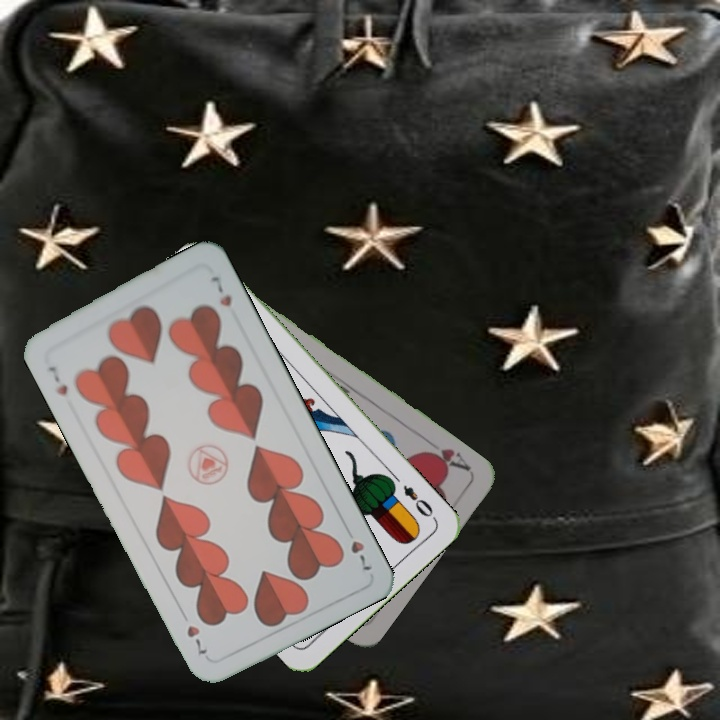EO: (399, 481, 436, 520)
H7: (346, 536, 374, 573), (43, 362, 71, 398)
HA: (418, 444, 474, 474)
